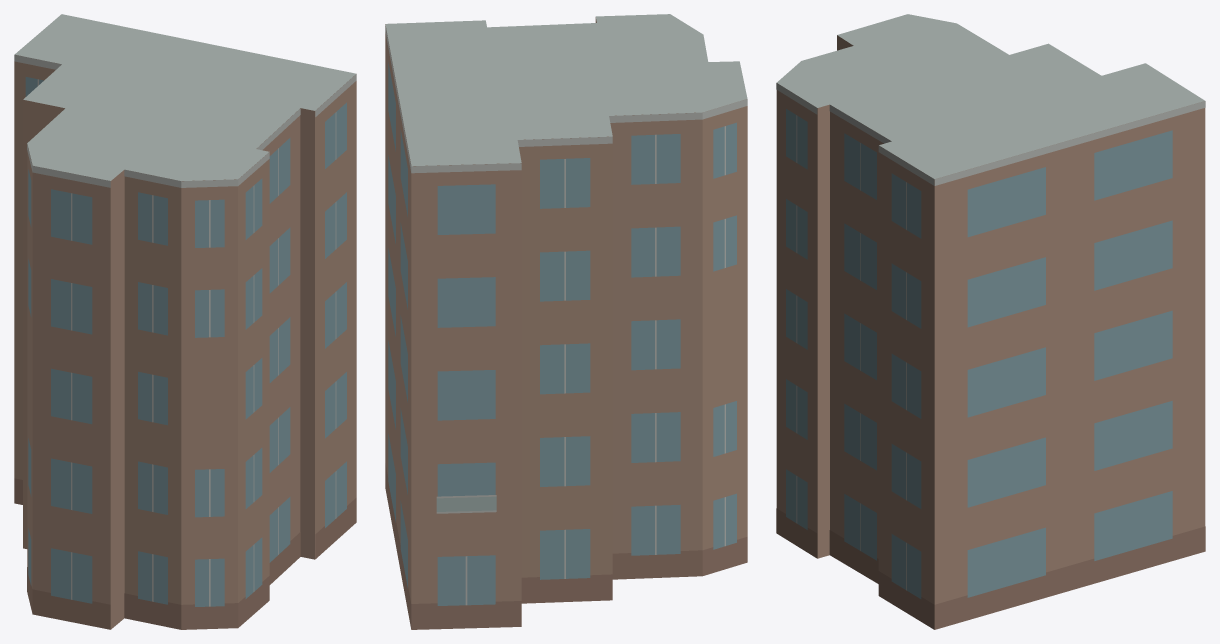
Rendered from survey-upis-32533853.glb.
3 renders of one model, left to right at view 1: azimuth 30°, elevation 25°; view 2: azimuth 150°, elevation 25°; view 3: azimuth 270°, elevation 25°, orthographic. The views are drawn at different scales.
Visible parts, largest first — view 1: survey-upis-32533853.tmp; view 2: survey-upis-32533853.tmp; view 3: survey-upis-32533853.tmp.
Boxes of the visible parts, x1,y1,x2,y2 form: survey-upis-32533853.tmp: [14, 14, 356, 629]; survey-upis-32533853.tmp: [385, 14, 747, 629]; survey-upis-32533853.tmp: [776, 14, 1205, 629].
Size of the model in its own units: 12.59 by 16 by 13.81.
